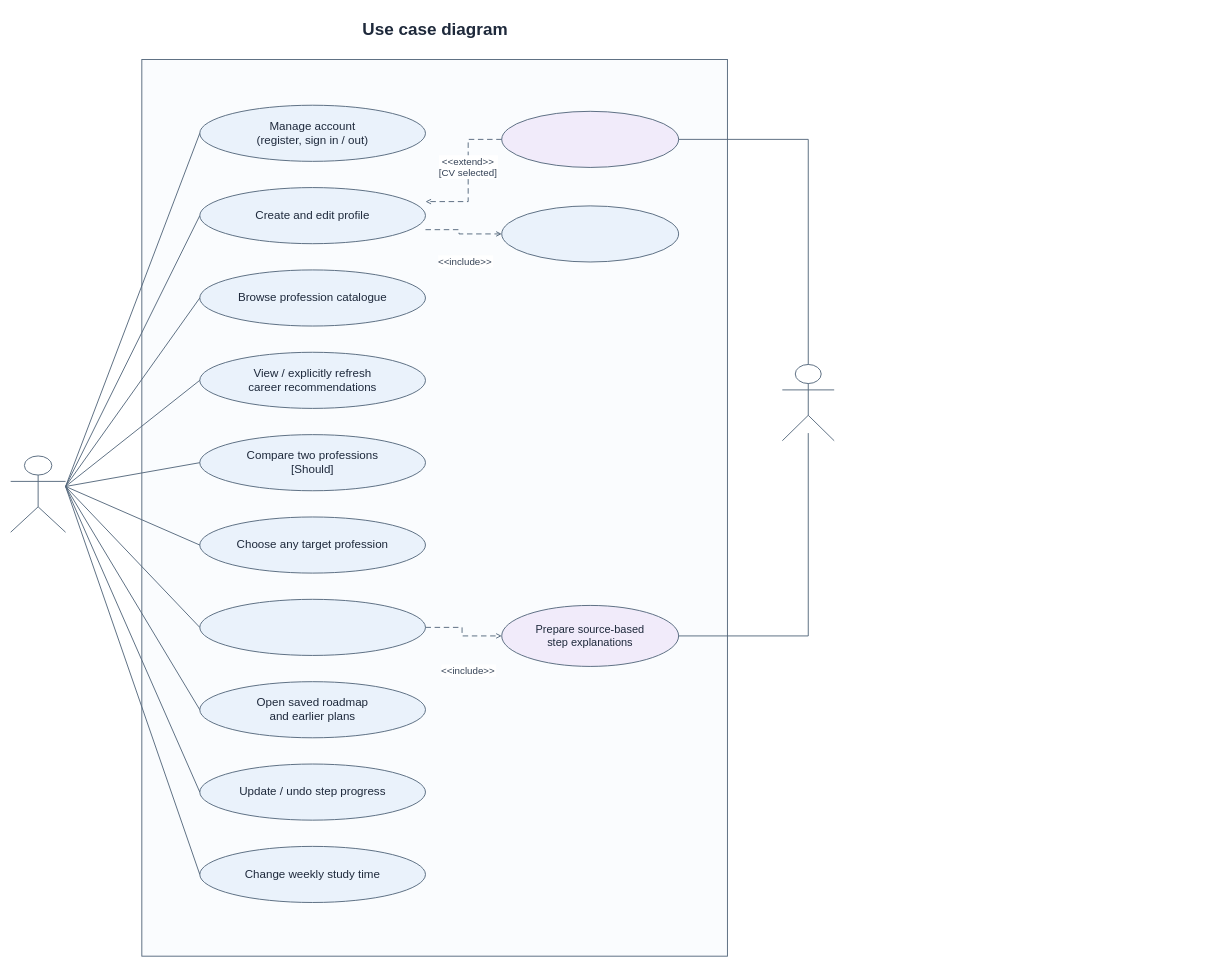
This 1214x967 diagram has some shape labels left out. The shapes that lost their labels are listed below. From the top down, each one's box as (x1, y1, x2, y2) in pixels, then its label:
(501, 111, 679, 168): Import PDF / DOCX CV
(501, 205, 679, 262): Review and save profile information
(782, 364, 834, 441): External AI provider
(10, 455, 66, 532): User
(199, 599, 426, 656): Create / replace roadmap
